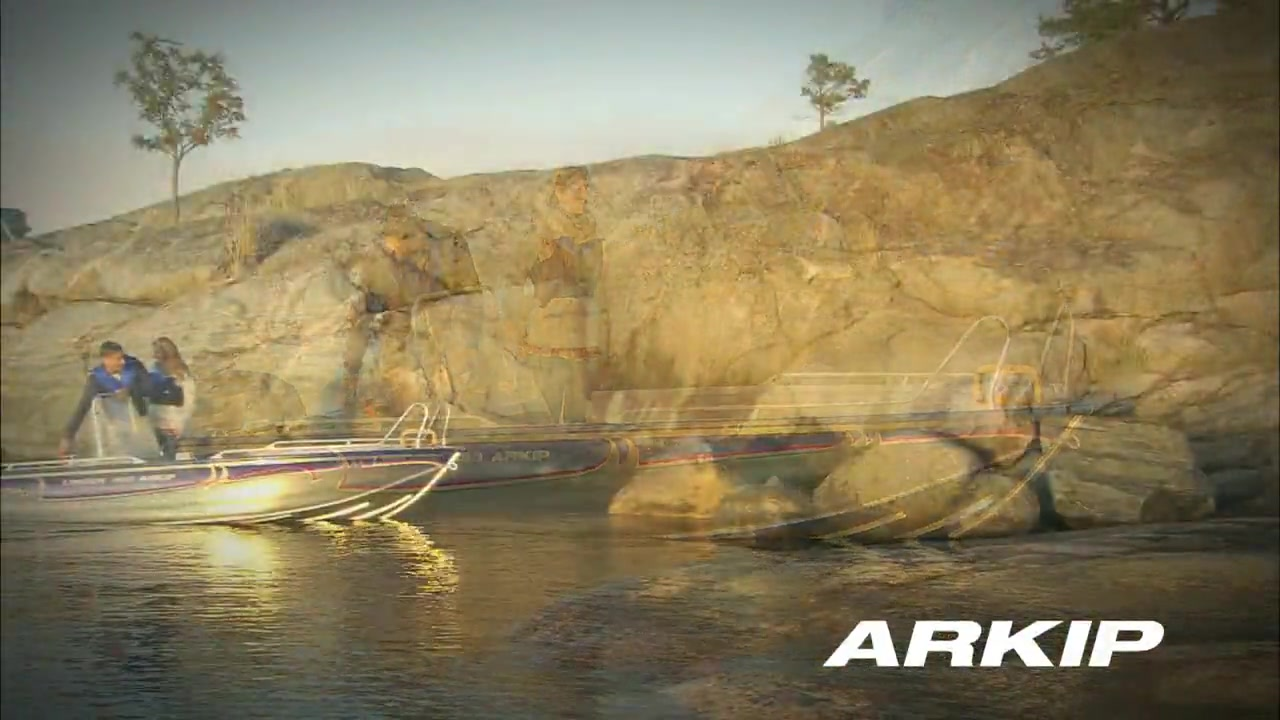boat: (1, 394, 465, 531)
